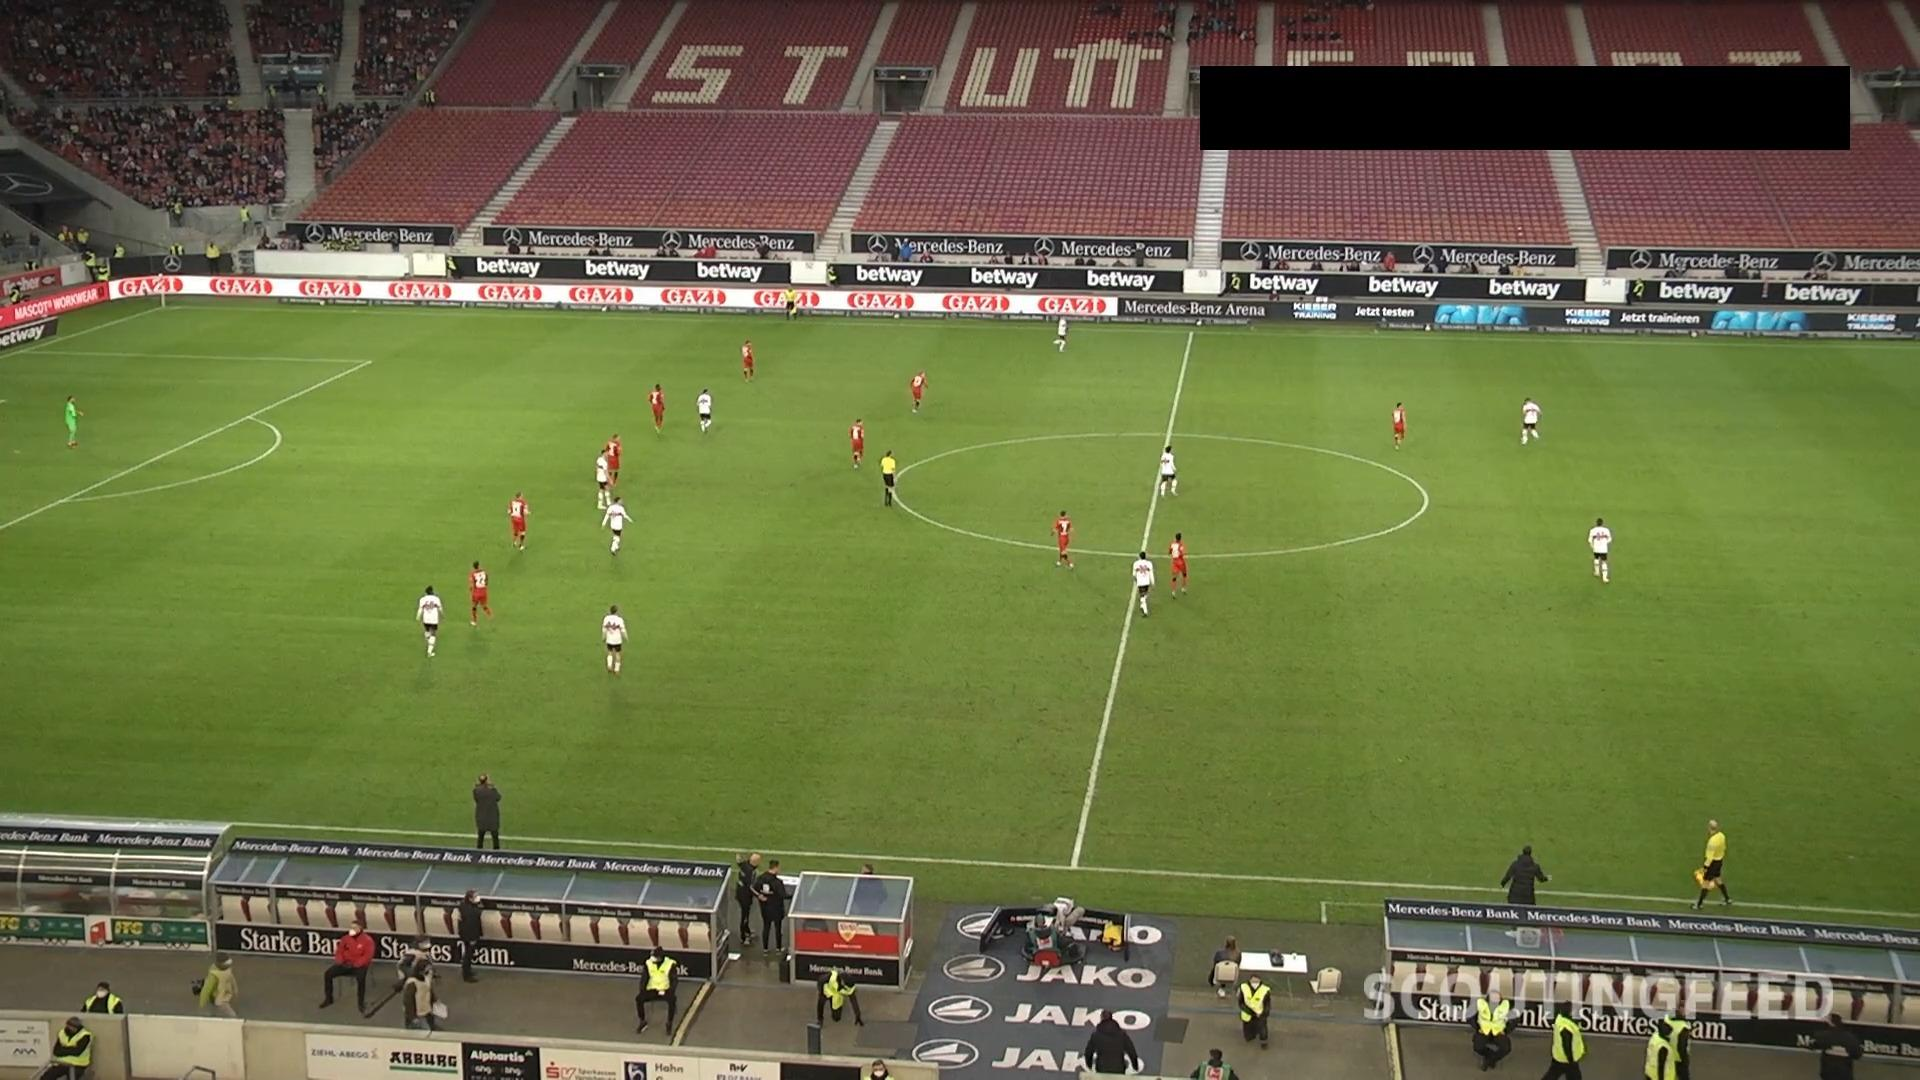ball: (1518, 434, 1528, 444)
